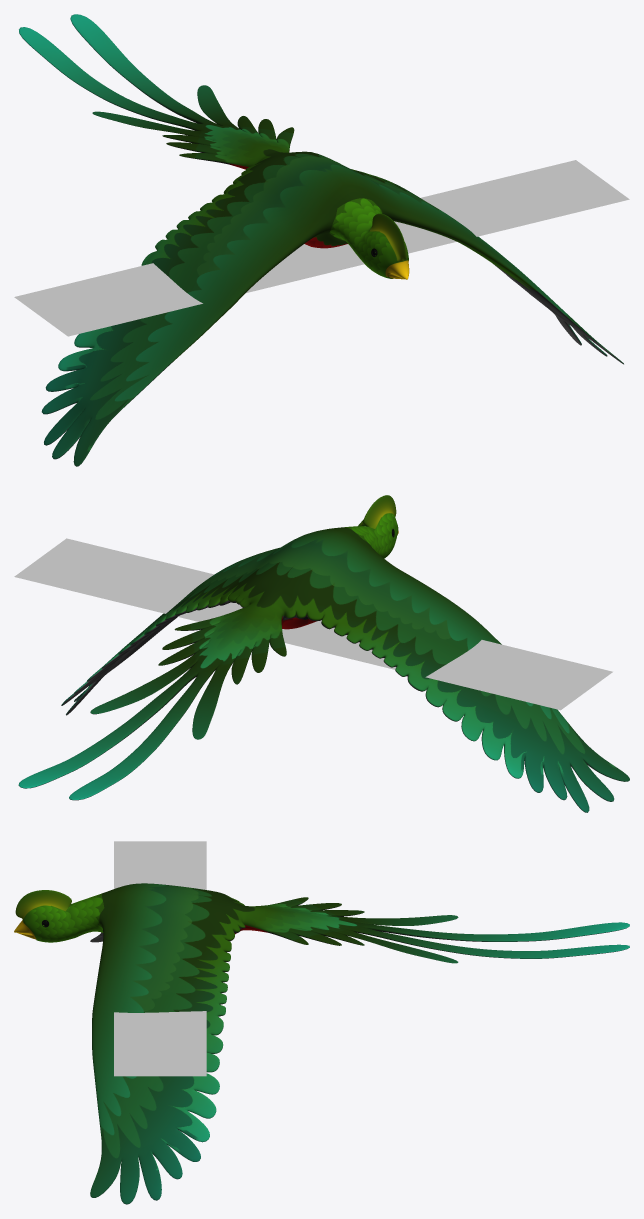
File: bird2.obj
3 views of the same model, one above another, from view 1: azimuth 30°, elevation 25°; view 2: azimuth 150°, elevation 25°; view 3: azimuth 270°, elevation 25° (orthographic). The views are drawn at different scales.
Parts seen in each view (by area): view 1: Quetzal, punta-l_Plane.002, punta-r_Plane.003; view 2: Quetzal, punta-r_Plane.003, punta-l_Plane.002; view 3: Quetzal, punta-l_Plane.002, punta-r_Plane.003.
Boxes of the visible parts, box(x1,y1,x2,y2) form: Quetzal: box(19, 14, 623, 466); punta-l_Plane.002: box(14, 177, 559, 336); punta-r_Plane.003: box(87, 160, 629, 319); Quetzal: box(18, 495, 629, 812); punta-r_Plane.003: box(14, 538, 544, 693); punta-l_Plane.002: box(83, 555, 612, 710); Quetzal: box(14, 883, 629, 1204); punta-l_Plane.002: box(114, 841, 206, 1046); punta-r_Plane.003: box(114, 871, 206, 1076).
Bounding box in the file's own units: 0.9729 × 0.3922 × 1.06.
Materials: 2 (1 with a texture image).
